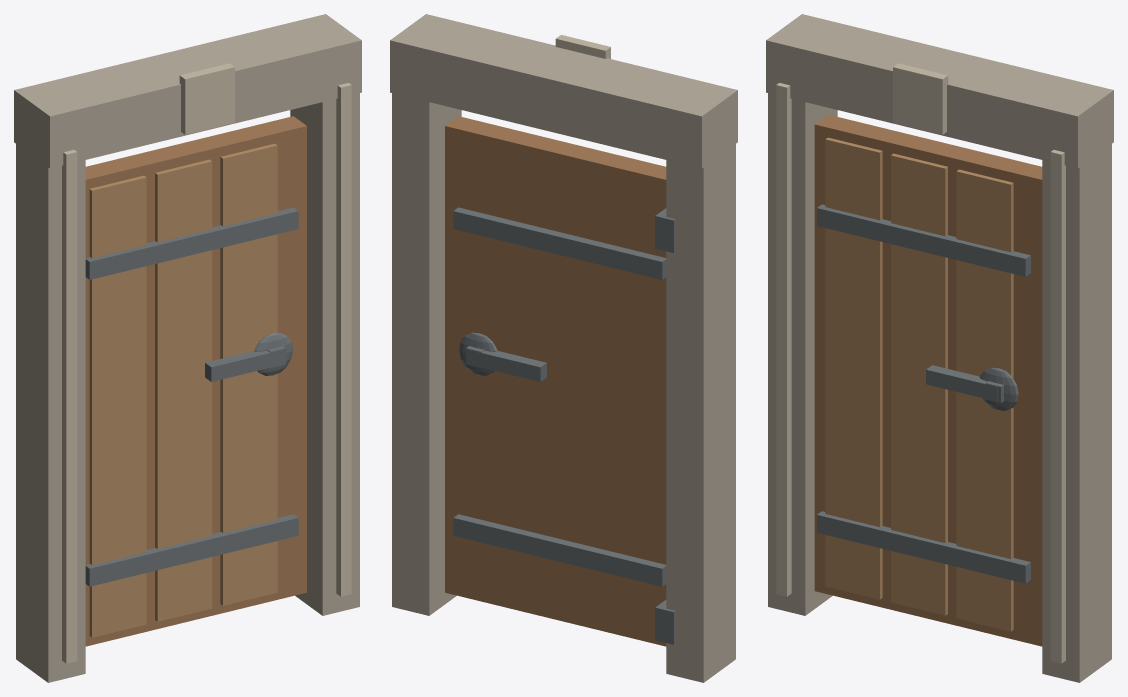
Rendered from door.glb.
3 views of the same model, side by side, from view 1: azimuth 30°, elevation 25°; view 2: azimuth 150°, elevation 25°; view 3: azimuth 330°, elevation 25° (orthographic).
Parts seen in each view (by area): view 1: left_stone_jamb, oak_leaf, stone_lintel, leaf_plank, leaf_plank.001, leaf_plank.002, right_stone_jamb, jamb_edge.001, jamb_edge, iron_strap, iron_strap.001, keystone (+2 smaller); view 2: oak_leaf, left_stone_jamb, stone_lintel, right_stone_jamb, iron_strap.002, iron_strap.003, handle_lever_corridor, hinge_pin, hinge_pin.001, handle_backplate_corridor, keystone; view 3: oak_leaf, right_stone_jamb, stone_lintel, leaf_plank, leaf_plank.001, leaf_plank.002, left_stone_jamb, jamb_edge, jamb_edge.001, iron_strap, iron_strap.001, keystone (+2 smaller).
Part boxes in pixels (<box>): left_stone_jamb: <box>16,112,85,682</box>; oak_leaf: <box>85,116,306,646</box>; stone_lintel: <box>14,14,361,168</box>; leaf_plank: <box>89,175,146,637</box>; leaf_plank.001: <box>155,159,212,621</box>; leaf_plank.002: <box>220,143,277,605</box>; right_stone_jamb: <box>290,93,359,615</box>; jamb_edge.001: <box>336,83,351,596</box>; jamb_edge: <box>62,150,77,663</box>; iron_strap: <box>85,514,298,586</box>; iron_strap.001: <box>85,207,298,279</box>; keystone: <box>179,63,234,134</box>; oak_leaf: <box>445,116,666,646</box>; left_stone_jamb: <box>666,144,735,682</box>; stone_lintel: <box>390,14,737,168</box>; right_stone_jamb: <box>392,93,461,615</box>; iron_strap.002: <box>453,514,666,586</box>; iron_strap.003: <box>453,207,666,279</box>; handle_lever_corridor: <box>469,350,546,381</box>; hinge_pin: <box>655,600,675,644</box>; hinge_pin.001: <box>655,208,675,252</box>; handle_backplate_corridor: <box>459,332,497,375</box>; keystone: <box>555,35,610,58</box>; oak_leaf: <box>814,114,1042,646</box>; right_stone_jamb: <box>1042,116,1111,682</box>; stone_lintel: <box>766,14,1113,168</box>; leaf_plank: <box>825,137,882,599</box>; leaf_plank.001: <box>891,153,947,615</box>; leaf_plank.002: <box>956,169,1013,631</box>; left_stone_jamb: <box>768,93,837,615</box>; jamb_edge: <box>776,83,791,596</box>; jamb_edge.001: <box>1050,150,1065,663</box>; iron_strap: <box>817,511,1030,583</box>; iron_strap.001: <box>817,204,1030,276</box>; keystone: <box>893,63,948,134</box>.
Bounding box in the file's own units: 1 × 1.76 × 0.2266.
